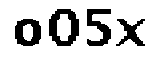0: (48, 6, 81, 51)
5: (84, 7, 113, 49)
o: (13, 16, 45, 50)
x: (115, 17, 148, 49)
